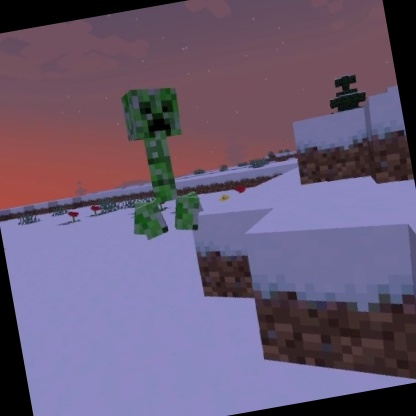creeper: (105, 78, 210, 245)
